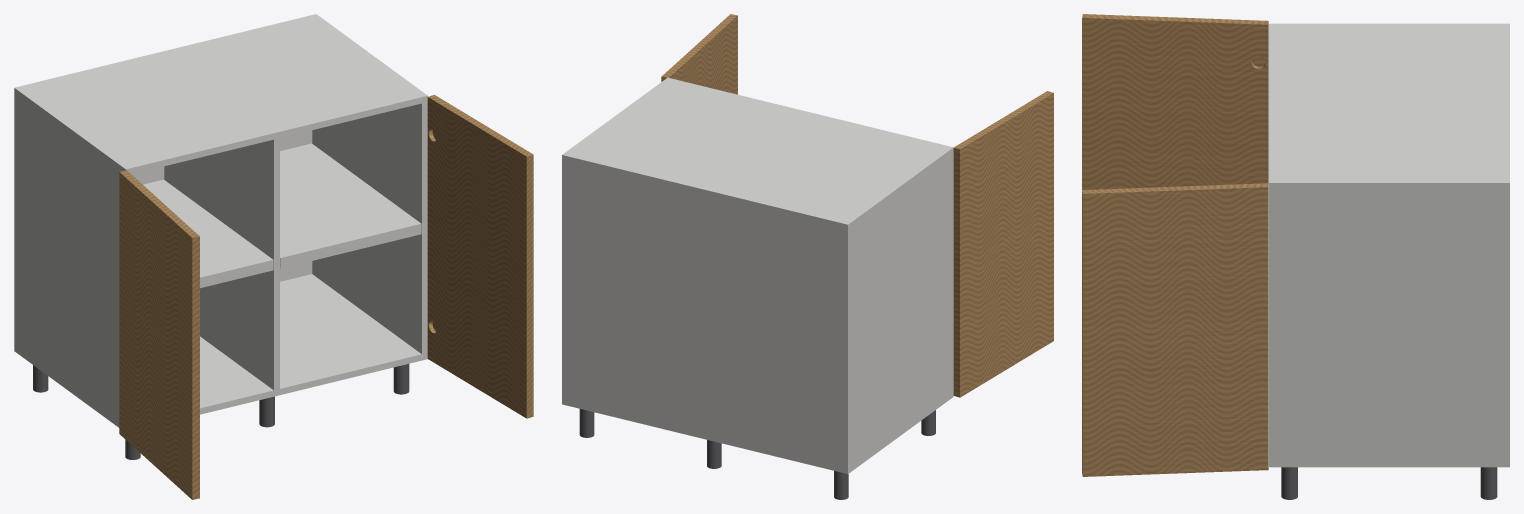
Rendered from w900_onset_default_open.glb.
3 renders of one model, left to right at view 1: azimuth 30°, elevation 25°; view 2: azimuth 150°, elevation 25°; view 3: azimuth 270°, elevation 25°, orthographic. The views are drawn at different scales.
Parts seen in each view (by area): view 1: white, oak, leg; view 2: white, oak, leg; view 3: white, oak, leg.
Boxes of the visible parts, box(x1,y1,x2,y2) form: white: box(14, 14, 427, 427); oak: box(119, 95, 533, 499); leg: box(33, 364, 409, 459); white: box(562, 77, 953, 473); oak: box(661, 14, 1053, 397); leg: box(579, 409, 935, 499); white: box(1269, 23, 1509, 467); oak: box(1082, 14, 1268, 476); leg: box(1281, 467, 1497, 499).
Size of the model in its own units: 1.02 by 0.85 by 1.02.
Materials: 3 (1 with a texture image).
